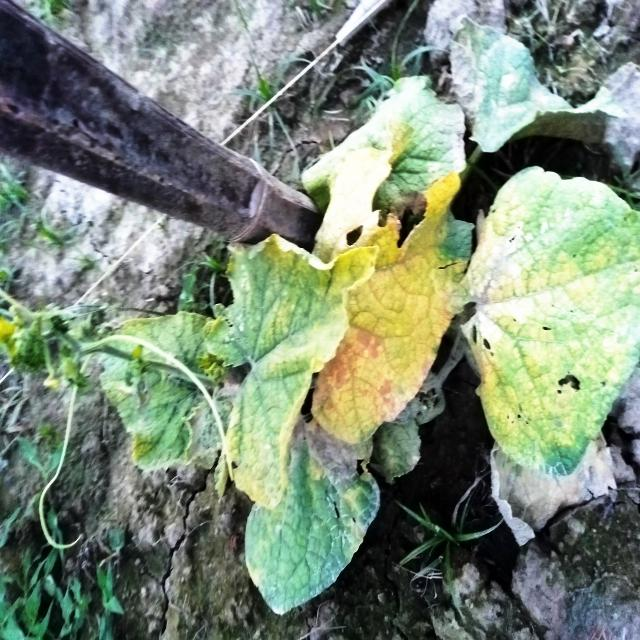Bacterial-Wilt: (447, 16, 640, 178), (489, 432, 623, 551)
